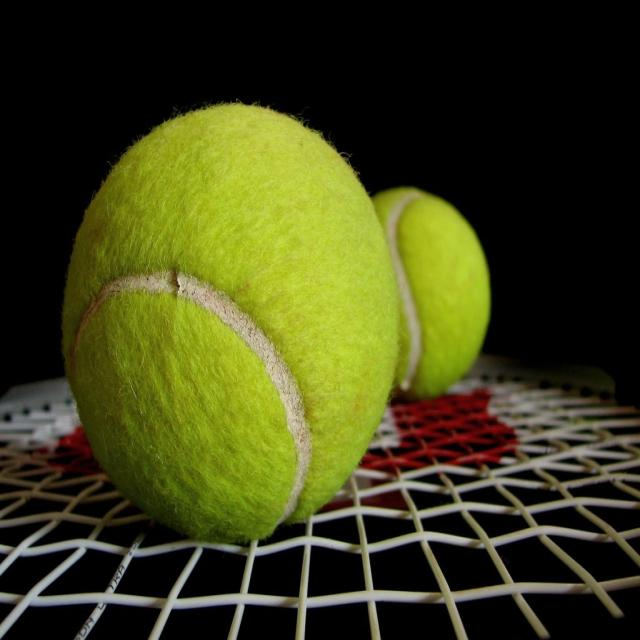Tennis ball: (61, 98, 400, 544), (370, 188, 489, 404)
